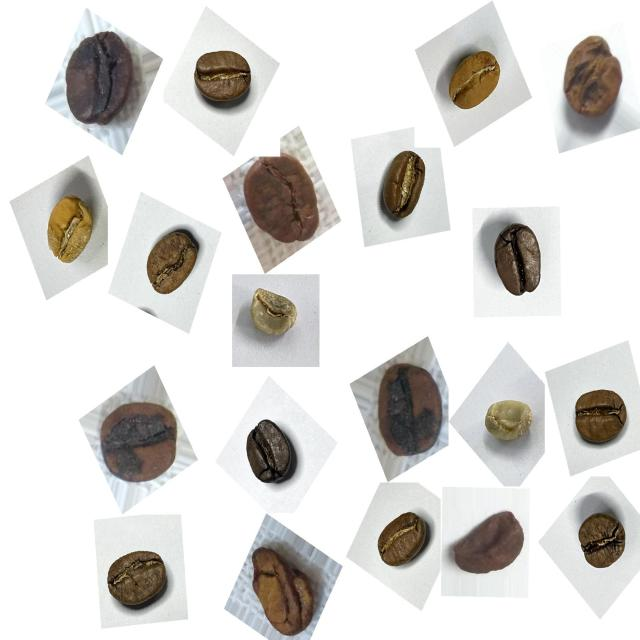bad: (56, 18, 149, 136), (236, 139, 328, 254), (92, 388, 188, 494), (365, 352, 452, 468), (550, 24, 634, 134), (240, 534, 324, 637), (448, 501, 530, 591)
dark: (480, 214, 556, 312), (236, 412, 305, 498)
green: (241, 278, 308, 351), (478, 388, 542, 457)
light: (33, 179, 104, 275), (440, 39, 512, 125)
medium: (136, 219, 208, 309), (98, 538, 176, 620), (370, 140, 438, 230), (186, 37, 260, 117), (566, 378, 636, 456), (570, 501, 636, 580), (368, 501, 434, 579)
